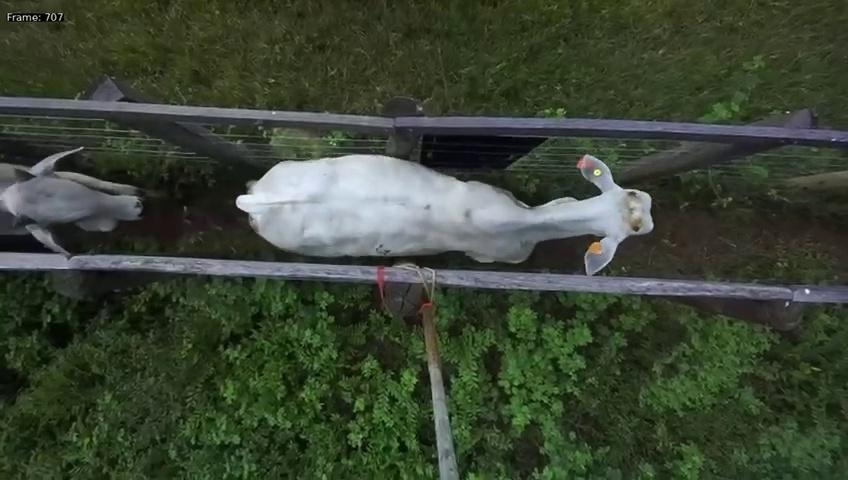cattle: (233, 146, 655, 274), (0, 144, 145, 238)
